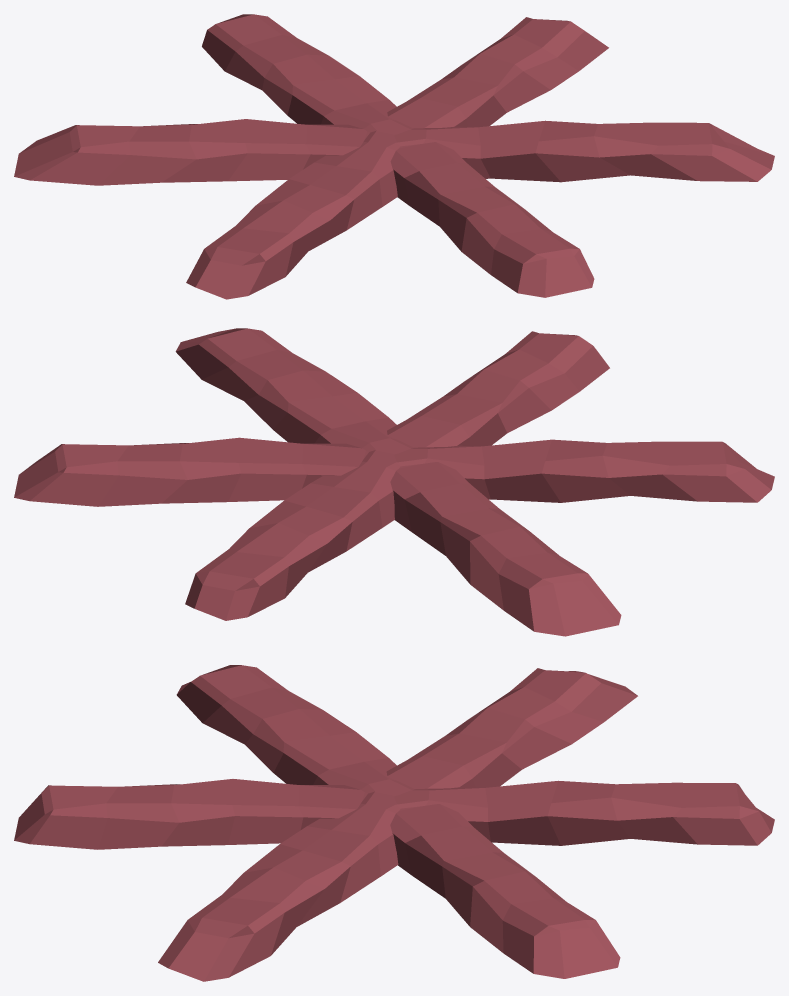
File: switchX.fbx
The picture shows the model from 3 angles, top to bottom: view 1: azimuth 30°, elevation 25°; view 2: azimuth 150°, elevation 25°; view 3: azimuth 270°, elevation 25°; orthographic projection. The views are drawn at different scales.
Visible parts, largest first — view 1: SwitchX; view 2: SwitchX; view 3: SwitchX.
Part boxes in pixels (left/top/right/bottom): SwitchX: left=14, top=14, right=774, bottom=299; SwitchX: left=14, top=328, right=774, bottom=636; SwitchX: left=14, top=665, right=774, bottom=981.
Bounding box in the file's own units: 0.9259 × 0.9514 × 0.0549.
